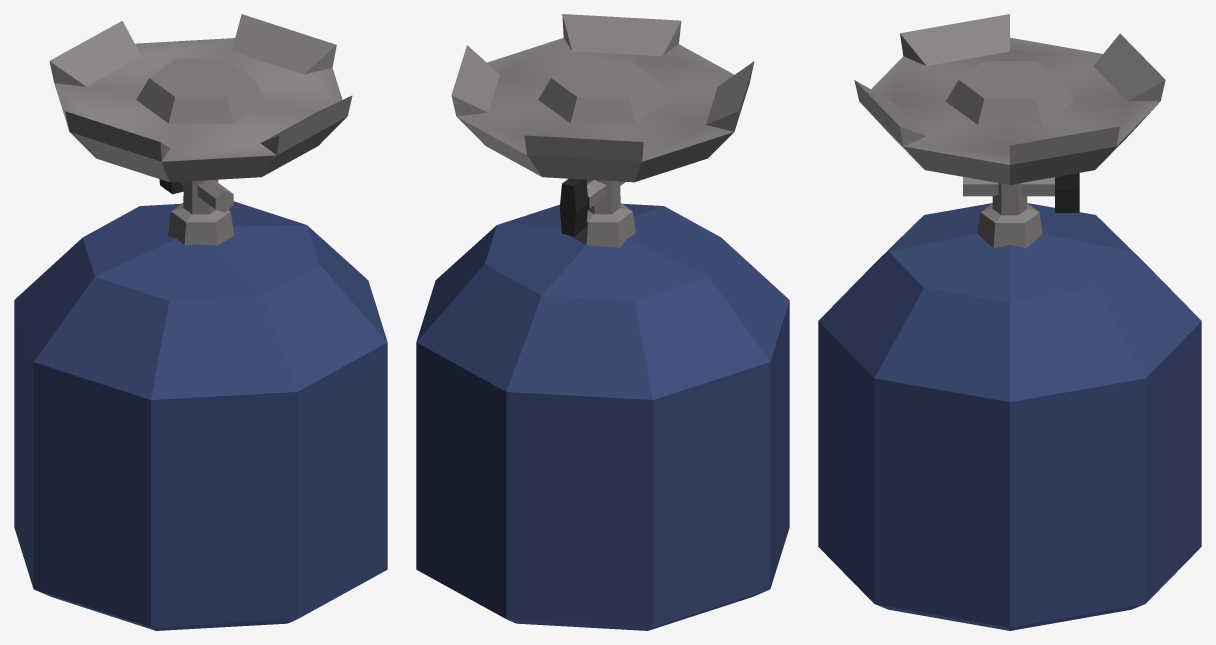
Rendered from cooker.glb.
The picture shows the model from 3 angles, left to right: view 1: azimuth 30°, elevation 25°; view 2: azimuth 150°, elevation 25°; view 3: azimuth 270°, elevation 25°; orthographic projection.
Parts seen in each view (by area): view 1: cooker; view 2: cooker; view 3: cooker.
Part boxes in pixels (x1,y1,x2,y2): cooker: [14, 14, 387, 630]; cooker: [416, 14, 789, 630]; cooker: [818, 14, 1201, 630].
Bounding box in the file's own units: 0.24 × 0.3304 × 0.24.
1 material, 1 textured.
